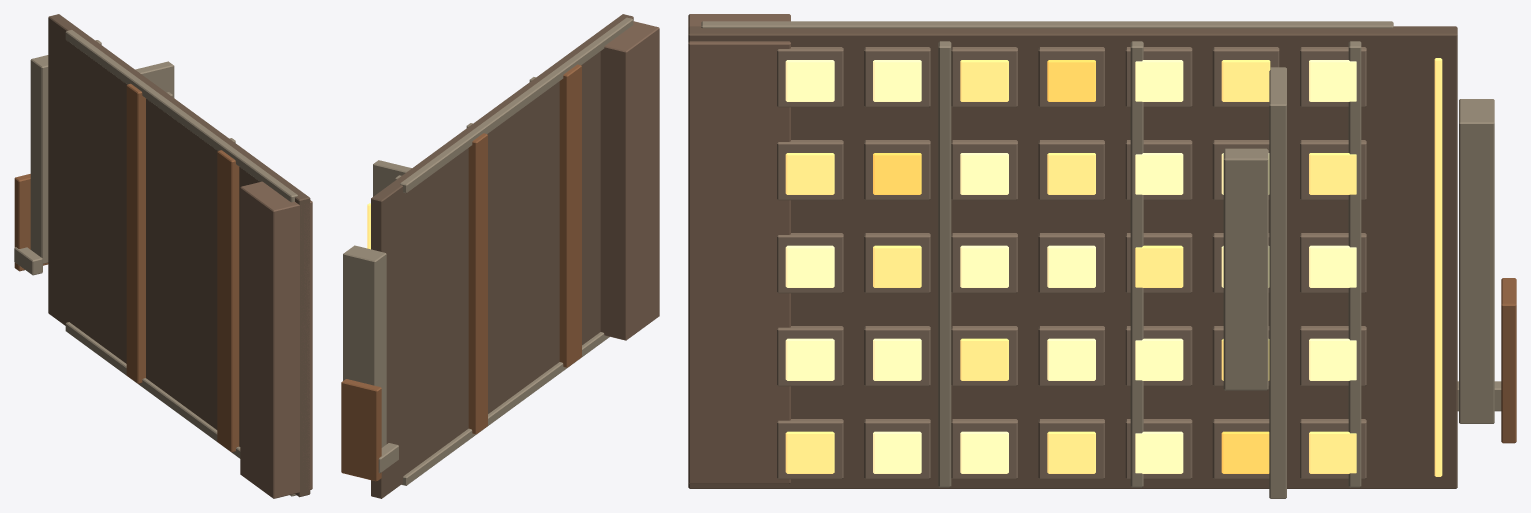
The model's file is facade_canyon_l.glb.
The picture shows the model from 3 angles, left to right: view 1: azimuth 30°, elevation 25°; view 2: azimuth 150°, elevation 25°; view 3: azimuth 270°, elevation 25°; orthographic projection. The views are drawn at different scales.
Parts seen in each view (by area): view 1: FacadeCanyon_L; view 2: FacadeCanyon_L; view 3: FacadeCanyon_L.
Boxes of the visible parts, bbox=[...] form: FacadeCanyon_L: bbox=[14, 14, 312, 498]; FacadeCanyon_L: bbox=[341, 14, 659, 498]; FacadeCanyon_L: bbox=[688, 14, 1516, 498].
Bounding box in the file's own units: 1.25 × 3.96 × 6.46.
